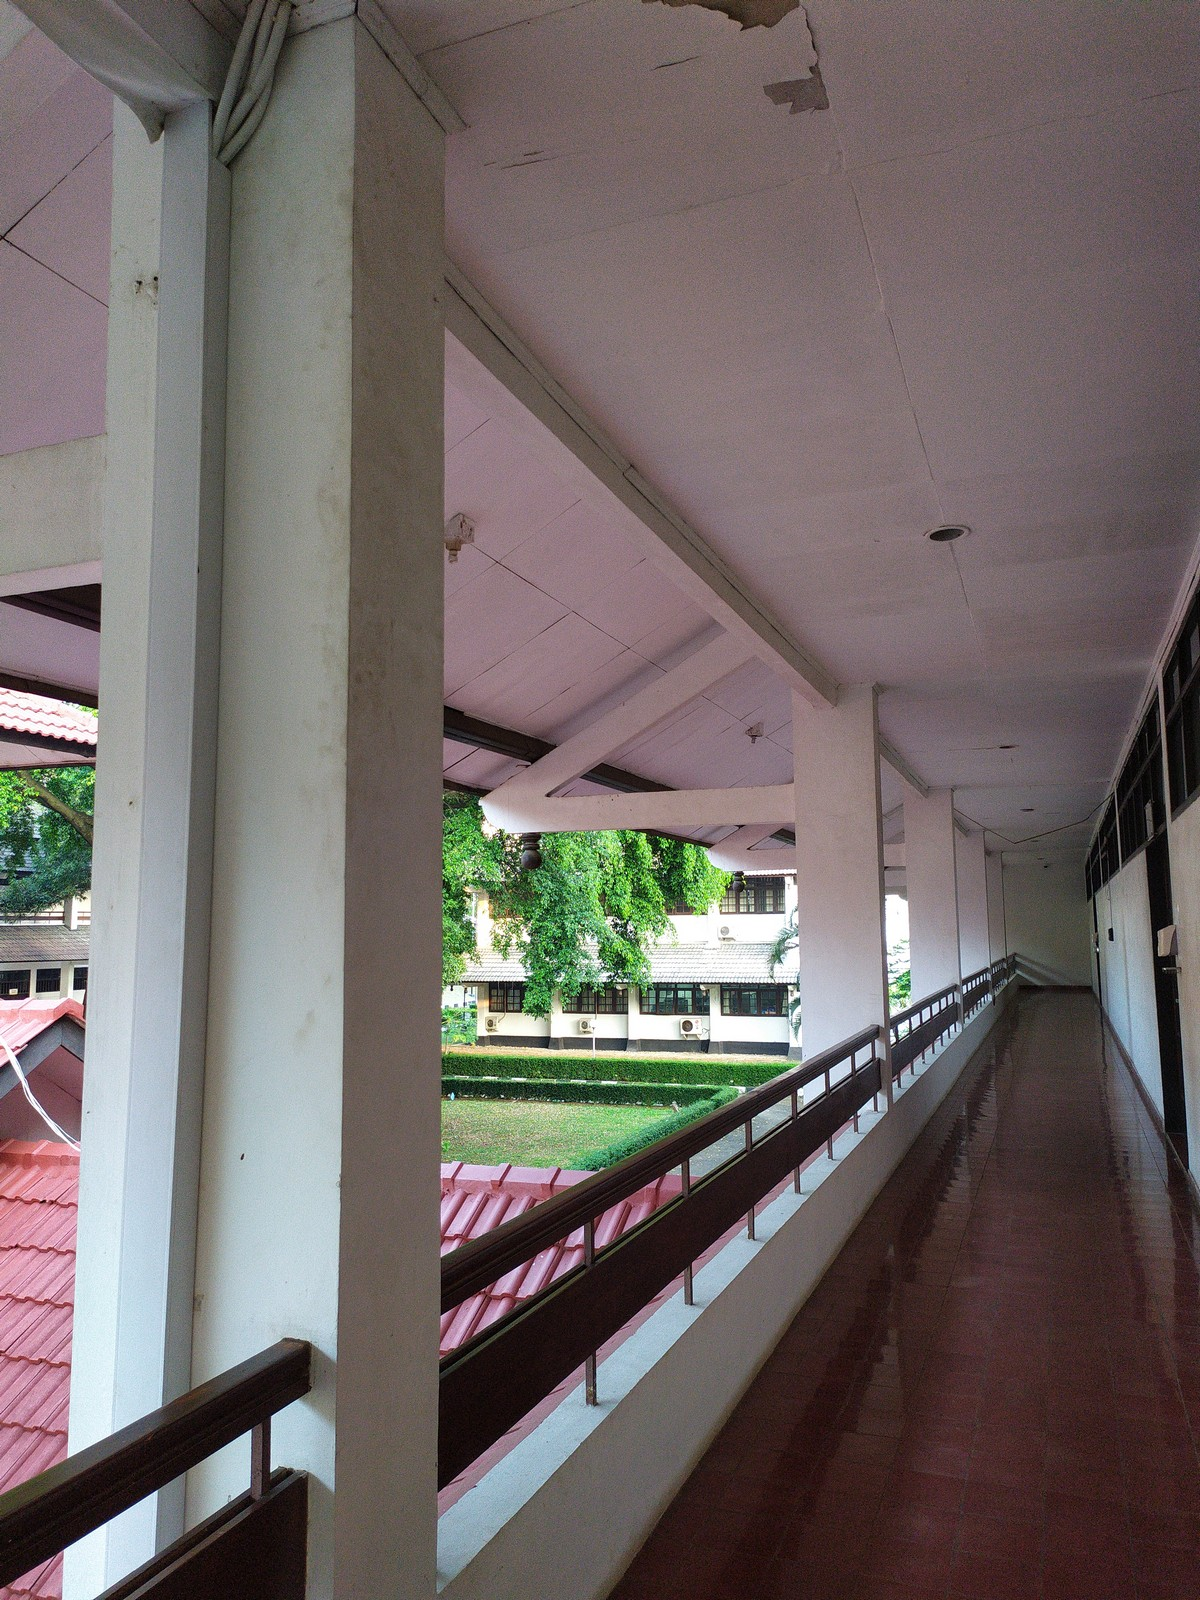concrete beam: (548, 781, 818, 847)
concrete column: (79, 88, 456, 1494), (780, 670, 897, 1048)
